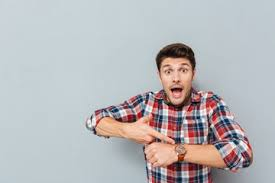hand: (124, 106, 181, 151)
